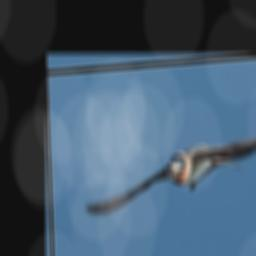Swallow: (82, 124, 256, 214)
